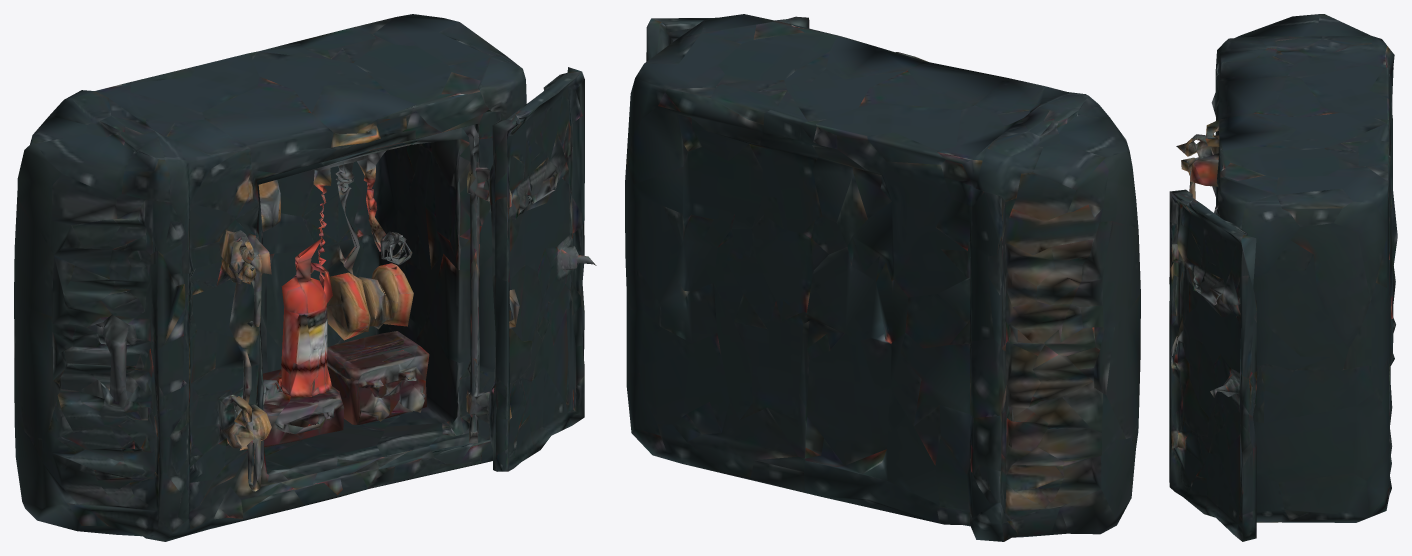
The model's file is dc_locker.glb.
The picture shows the model from 3 angles, left to right: view 1: azimuth 30°, elevation 25°; view 2: azimuth 150°, elevation 25°; view 3: azimuth 270°, elevation 25°; orthographic projection. The views are drawn at different scales.
Size of the model in its own units: 1.9 by 1.37 by 0.836.
Materials: 1 (1 with a texture image).
